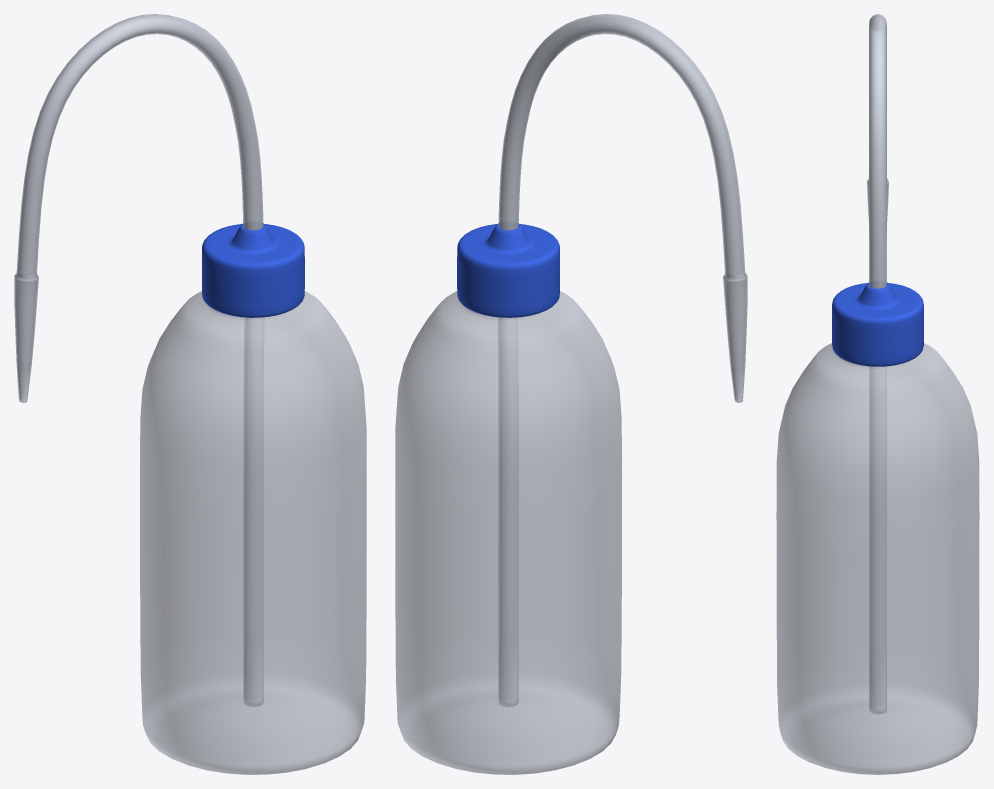
The model's file is střička.fbx.
3 renders of one model, left to right at view 1: azimuth 30°, elevation 25°; view 2: azimuth 150°, elevation 25°; view 3: azimuth 270°, elevation 25°, orthographic. The views are drawn at different scales.
Parts seen in each view (by area): view 1: Cylinder.010, Vert, Cylinder.011; view 2: Cylinder.010, Vert, Cylinder.011; view 3: Cylinder.010, Vert, Cylinder.011.
Boxes of the visible parts, box(x1,y1,x2,y2) form: Cylinder.010: box(140, 291, 366, 774); Vert: box(14, 14, 264, 706); Cylinder.011: box(202, 223, 304, 317); Cylinder.010: box(395, 291, 621, 774); Vert: box(497, 14, 747, 706); Cylinder.011: box(457, 223, 559, 317); Cylinder.010: box(776, 343, 979, 774); Vert: box(867, 14, 888, 713); Cylinder.011: box(832, 282, 923, 366).
Bounding box in the file's own units: 229 × 484 × 134.
